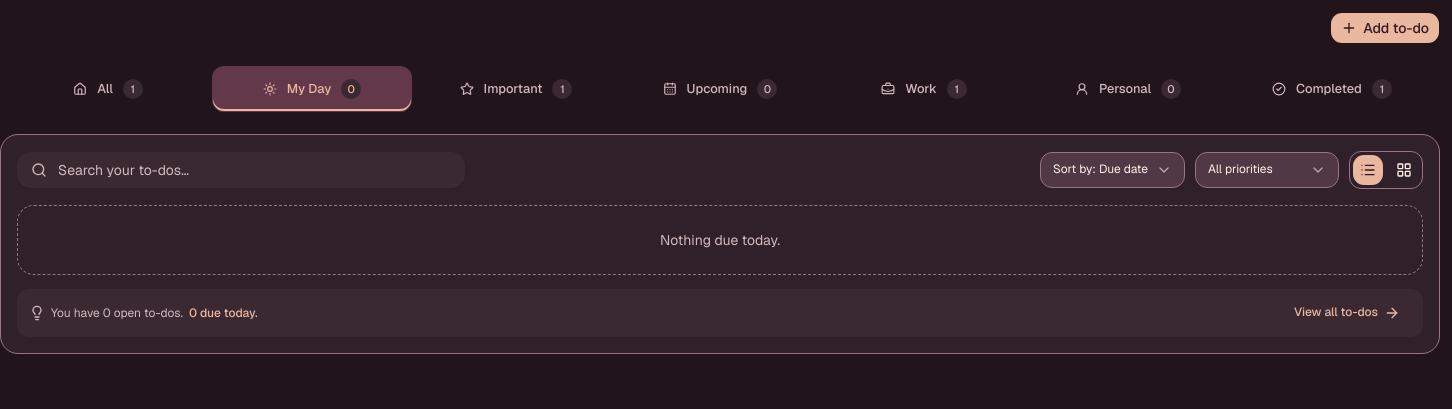
Test: TodoManager › groups completed items separately instead of labeling them overdue
This screenshot has width=1452, height=409.
Click the button "All 1": (108, 89) [8,66,208,112]
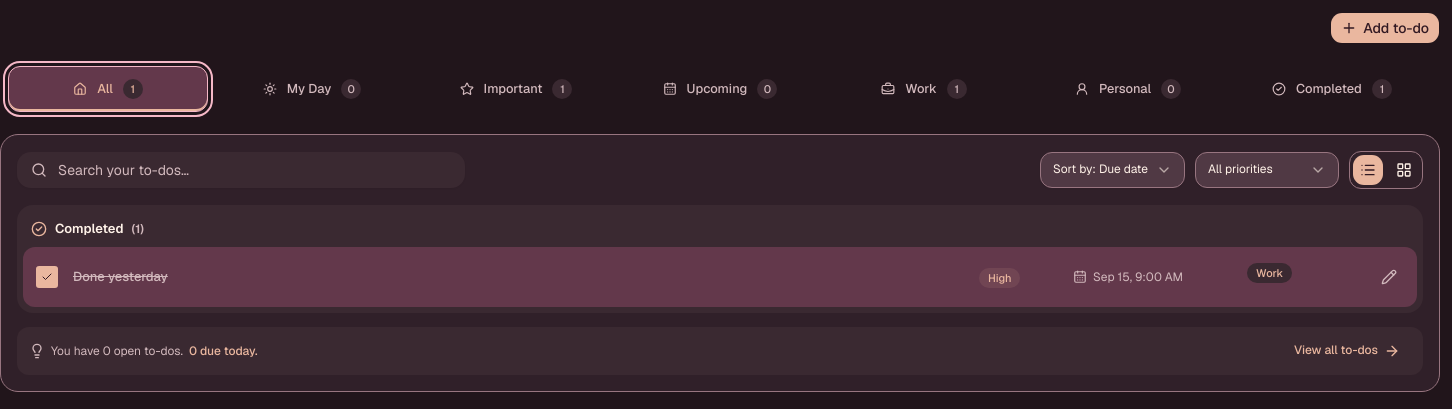
Now the text "Done yesterday" is shown, box [73,268,168,285]
